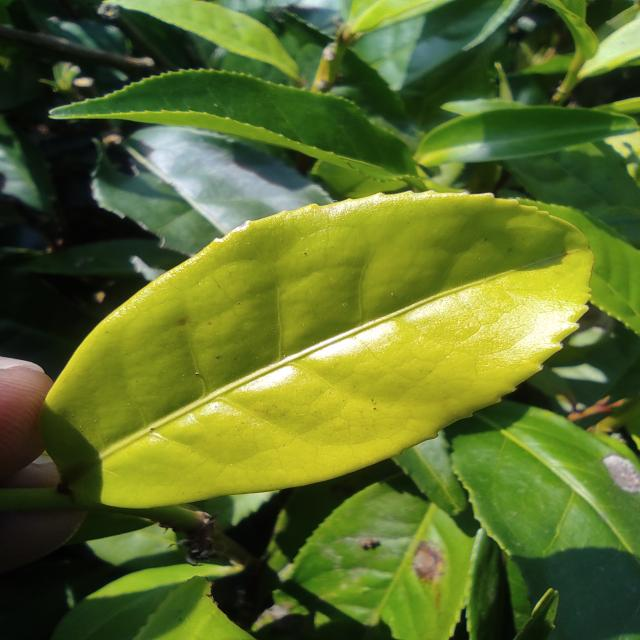Category C(4-7 days): (16, 158, 604, 556)
